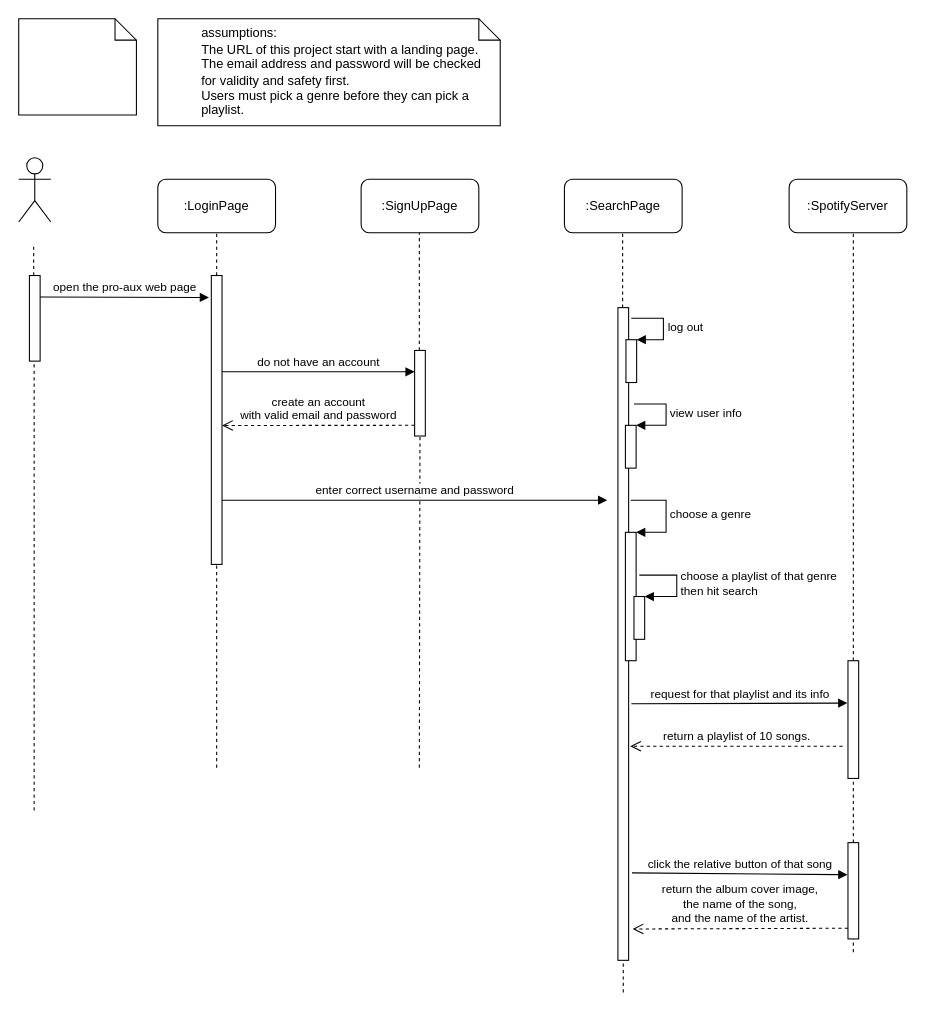
Some shapes in this 926 by 1012 pixel diagram are drawn without their labels. The shapes that lost their labels are listed below. From the top down, each one's box as (x1, y1, x2, y2) in pixels, then its label:
(18, 18, 136, 115): author: team 8
(18, 157, 51, 222): Actor
